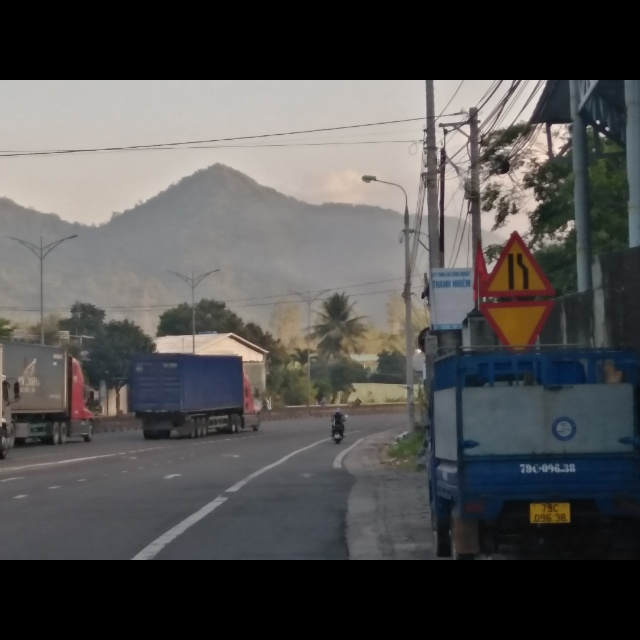Giao nhau với đường ưu tiên: (478, 299, 555, 350)
Đường bị hẹp bên phải: (480, 229, 555, 298)
